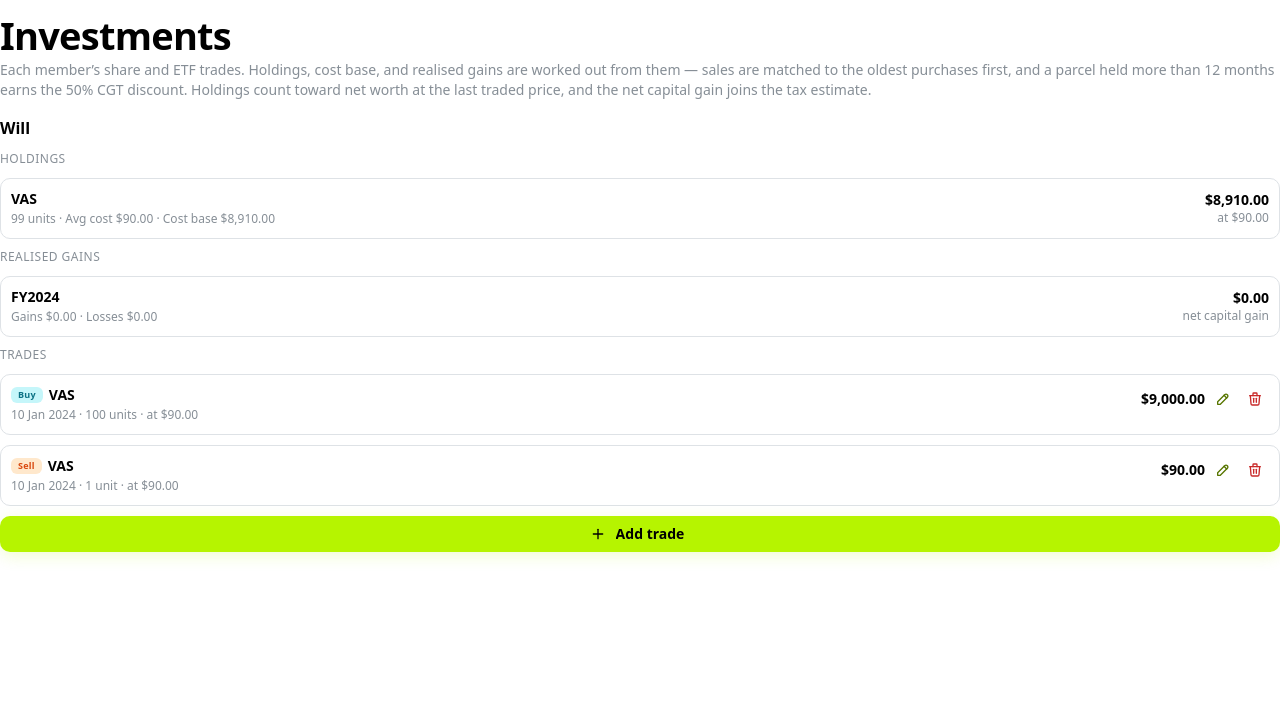
Test: TradesScreen › names a sell by its side in the delete confirmation
This screenshot has width=1280, height=720.
Click the button named "delete" in the row of "10 Jan 2024 · 1 unit · at $90.00": x=1255, y=470 [1241,456,1269,484]
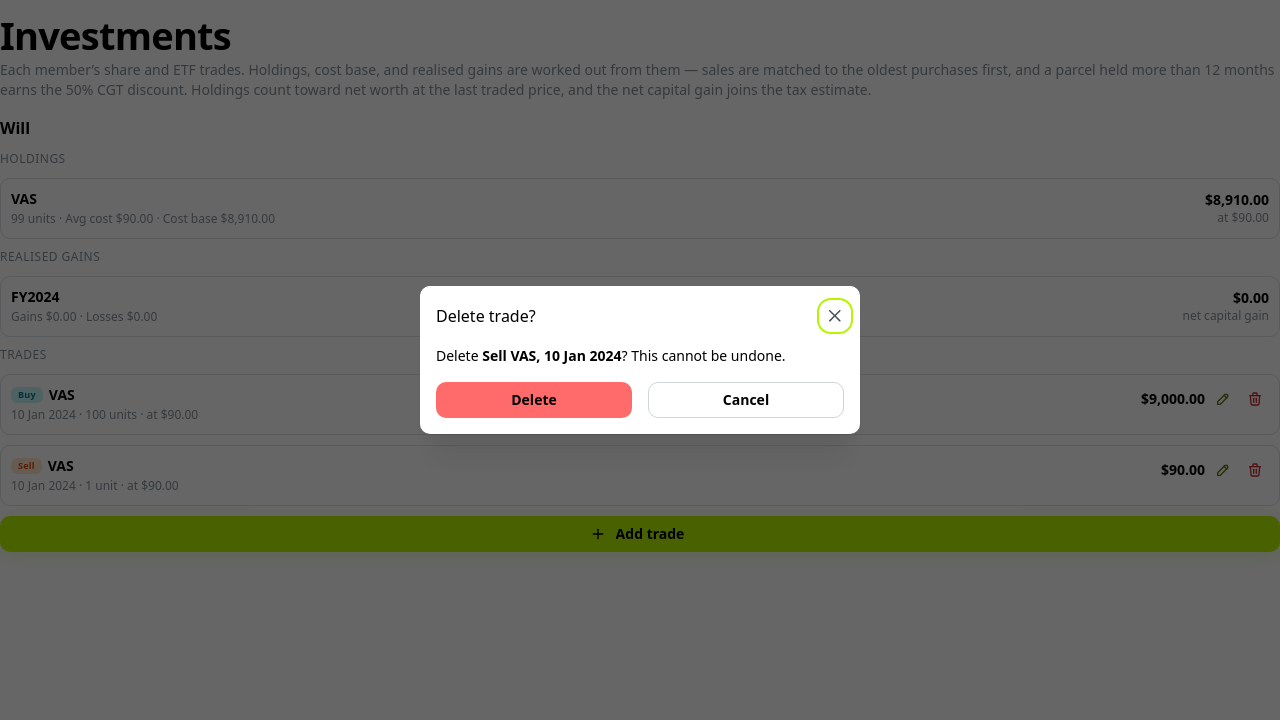
Expected: the text "Sell VAS, 10 Jan 2024" is shown, [482,346,622,365]
